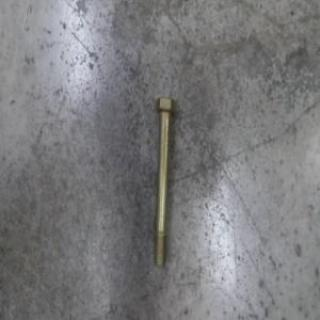Bolttrack_idkeyframe: (152, 93, 176, 270)
